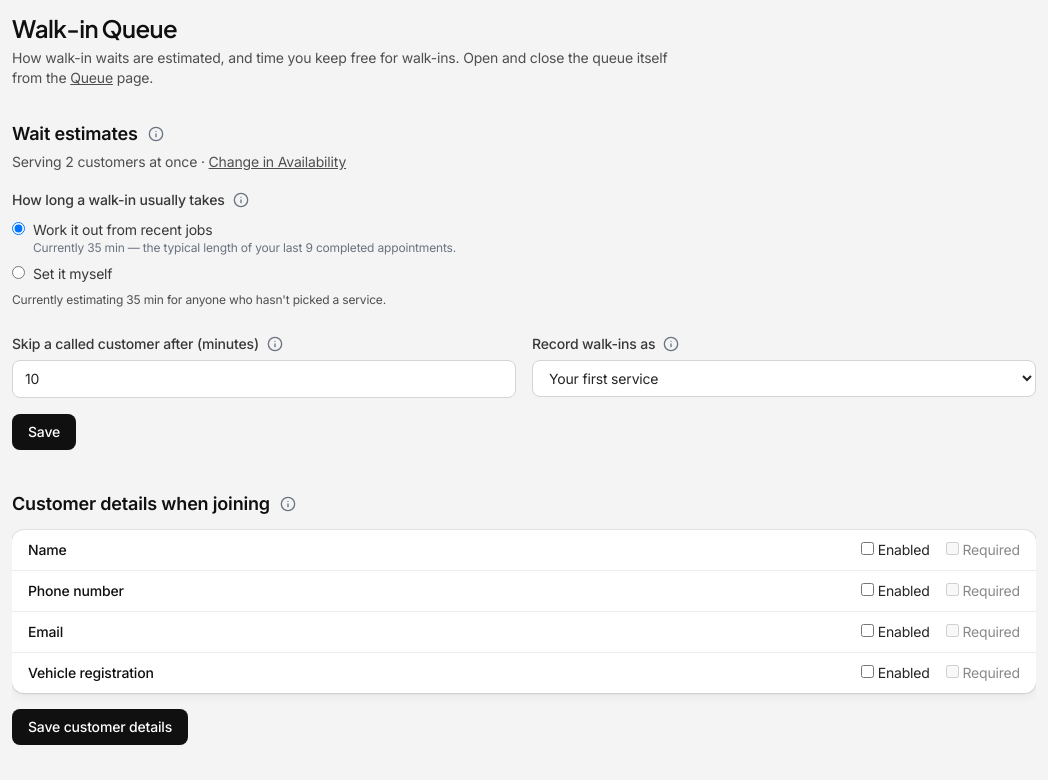
Test case: WalkInQueueSettings › saves a manual average and the no-show timeout
Step 1. Click the radio button labelled "Set it myself" → (18, 272), box [12, 266, 25, 279]
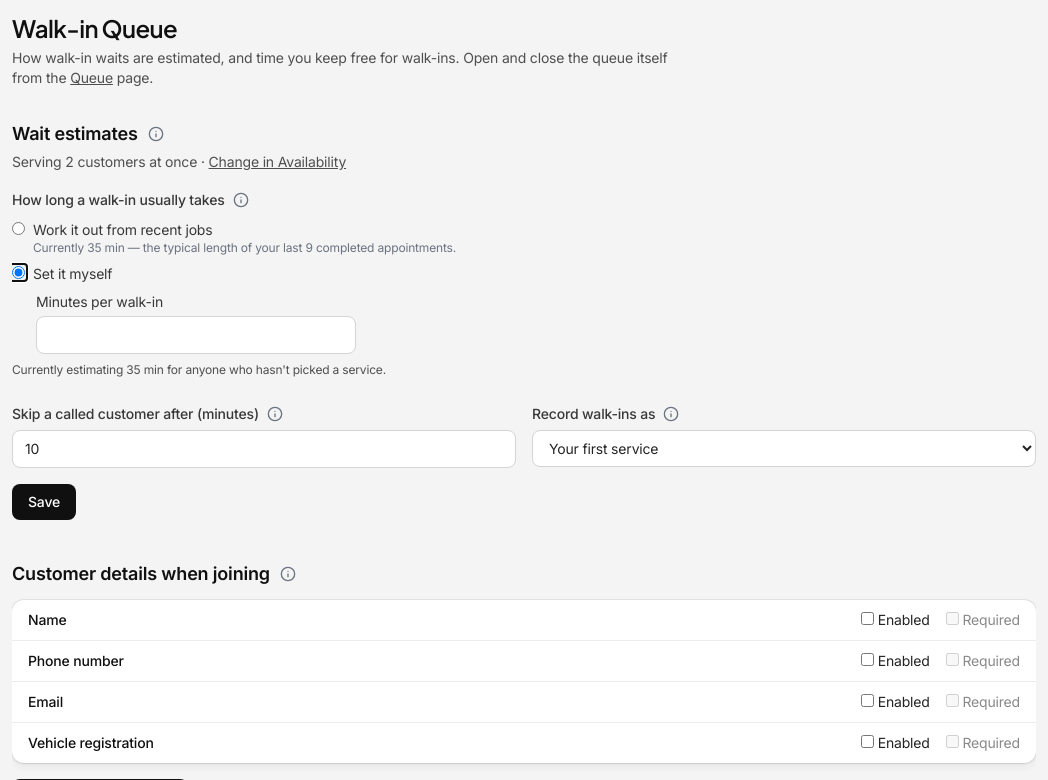
Step 2. Type "25" into the number field labelled "Minutes per walk-in" → (196, 335), box [36, 316, 356, 354]
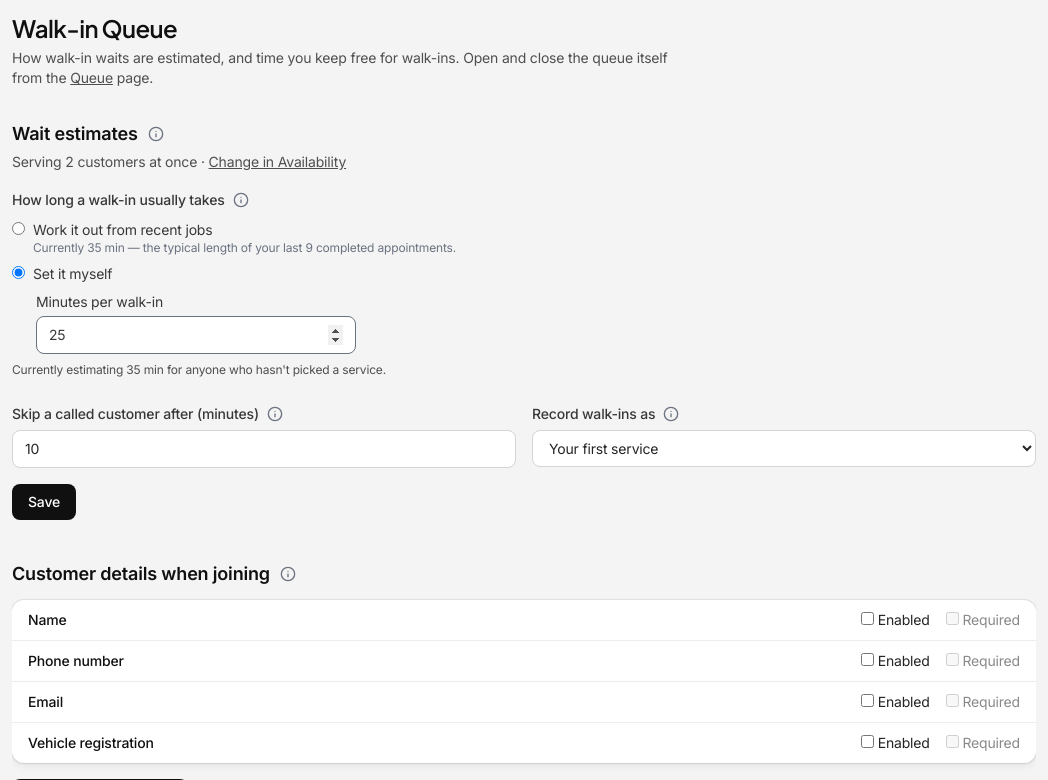
Step 3. Clear the number field labelled "Skip a called customer after (minutes)" → (264, 449), box [12, 430, 516, 468]
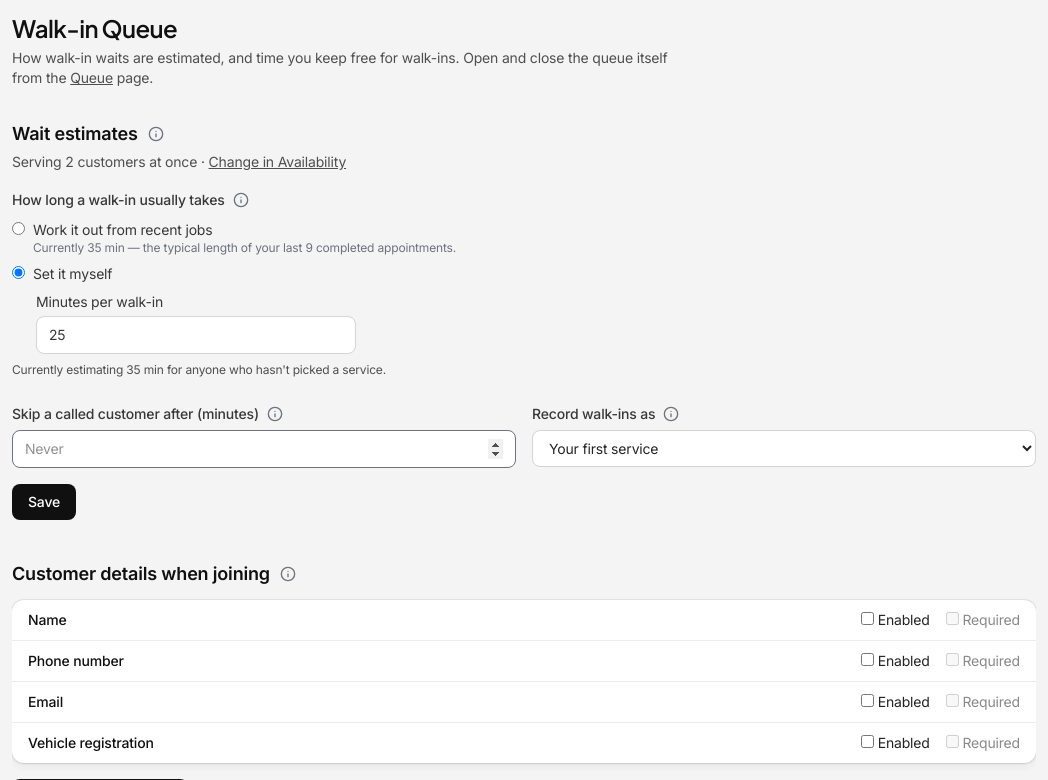
Step 4. Click the button "Save" → (44, 502), box [12, 484, 76, 520]
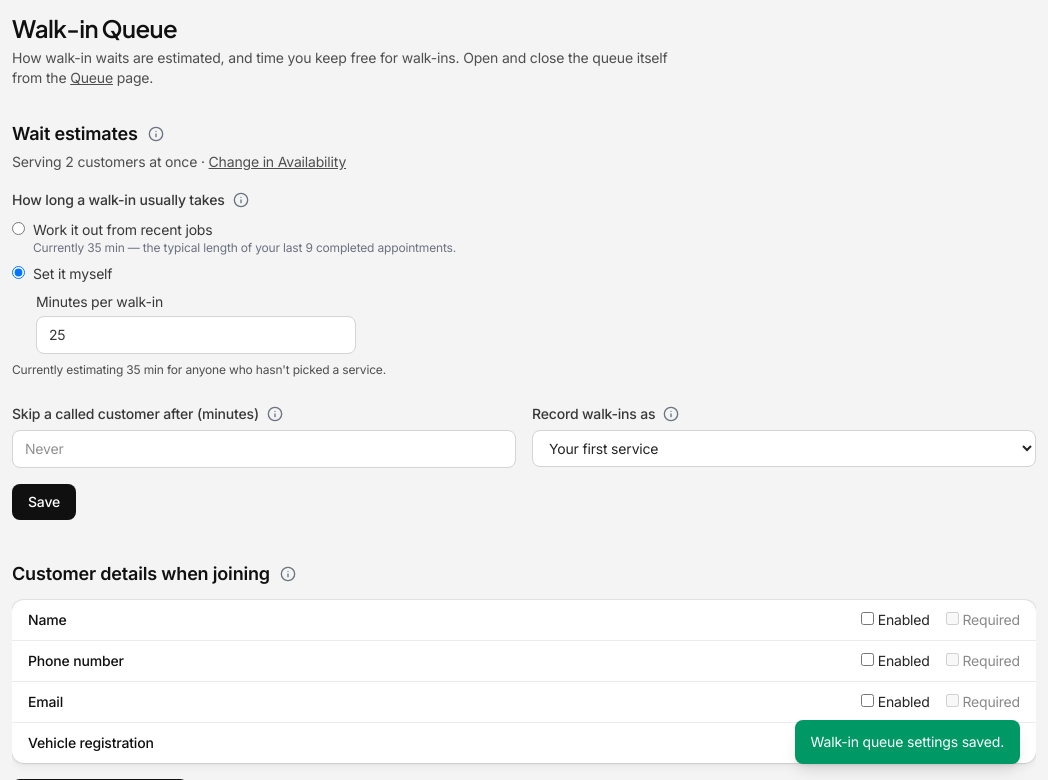
Result: the text "Walk-in queue settings saved." is shown at [795, 720, 1020, 764]
